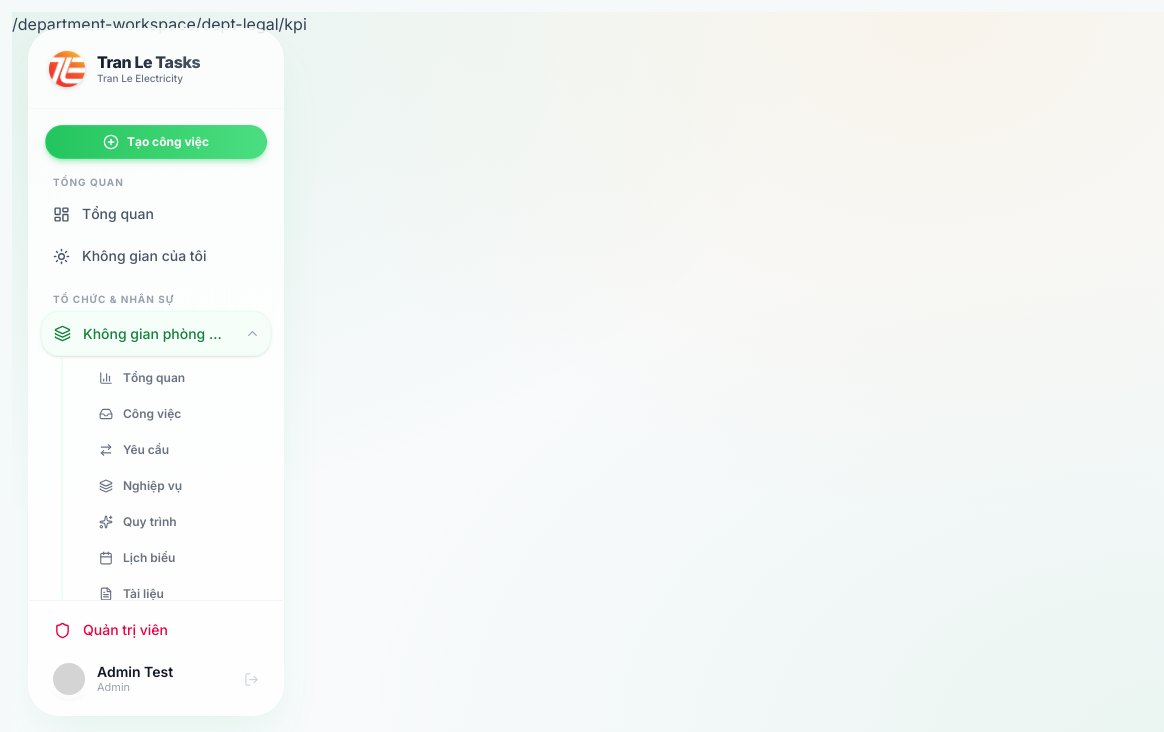
Test: sidebar submenu Không gian phòng ban › bấm tên menu cha -> mở trang Tổng quan mặc định
The width and height of the screenshot is (1164, 732).
Click the button "Không gian phòng ban" at {"x": 142, "y": 334}, box 54,324 -> 229,344
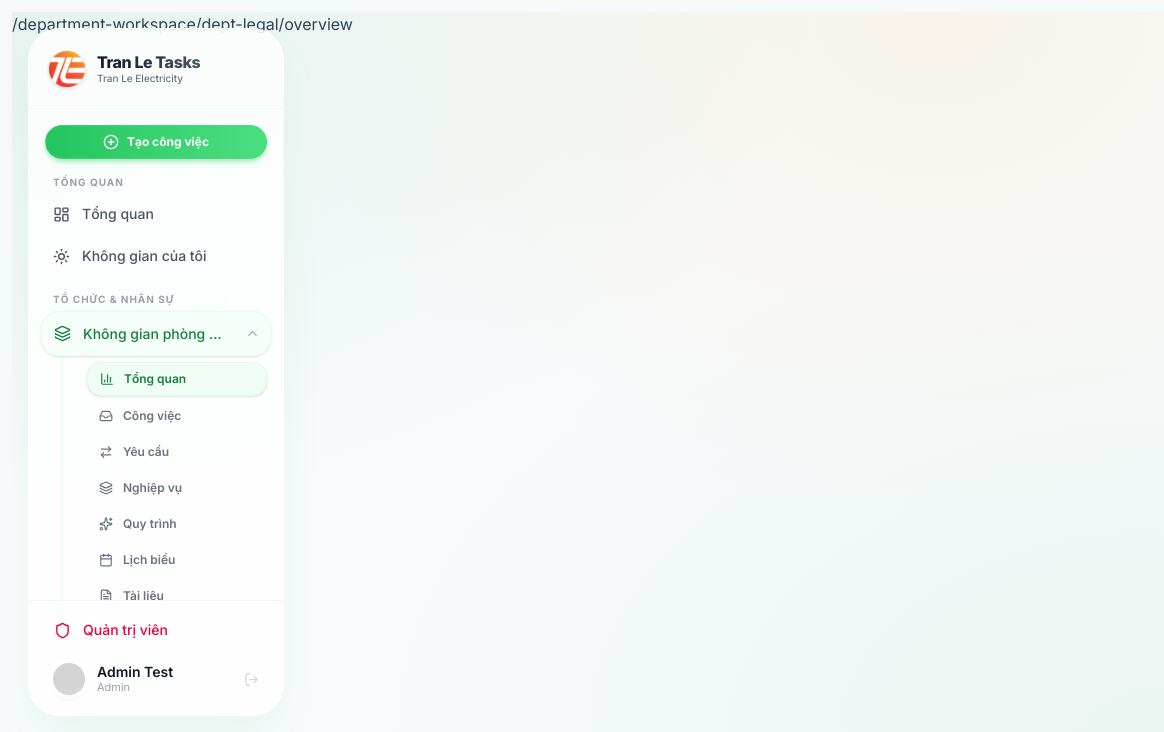
Expected: the text with test id "location" reads "/department-workspace/dept-legal/overview", 12,14 -> 353,34
